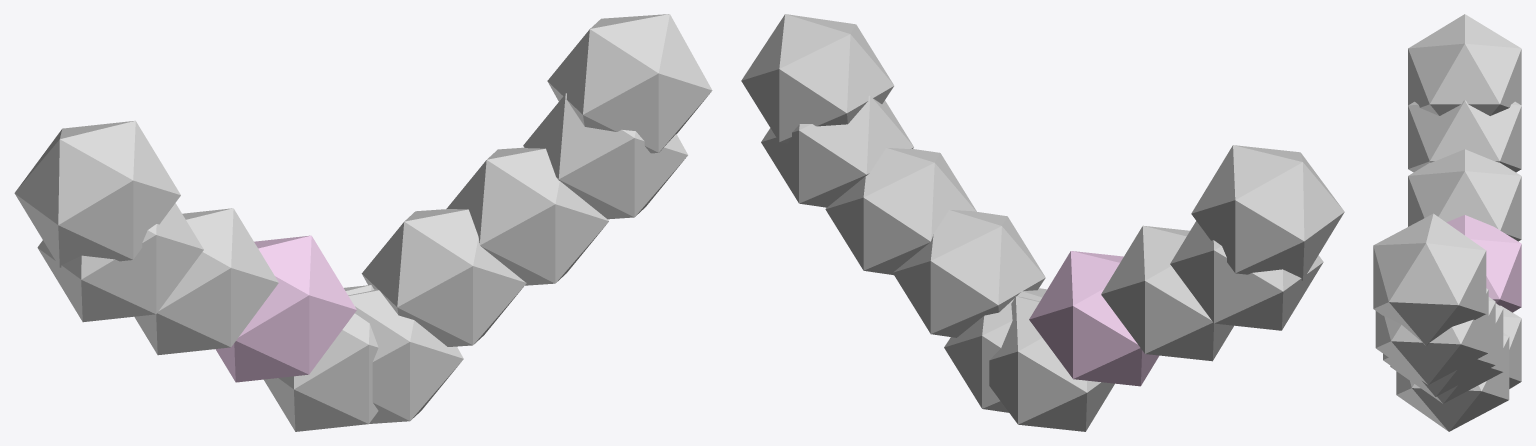
The model's file is coral reef.dae.
3 renders of one model, left to right at view 1: azimuth 30°, elevation 25°; view 2: azimuth 150°, elevation 25°; view 3: azimuth 270°, elevation 25°, orthographic. The views are drawn at different scales.
Visible parts, largest first — view 1: Platonic, Platonic.9, Platonic.6, Platonic.7, Platonic.3, Platonic.2, Platonic.8, Platonic.1, Platonic.5, Platonic.4; view 2: Platonic, Platonic.9, Platonic.6, Platonic.7, Platonic.3, Platonic.2, Platonic.4, Platonic.8, Platonic.1, Platonic.5; view 3: Platonic.9, Platonic, Platonic.2, Platonic.1, Platonic.8, Platonic.5, Platonic.3, Platonic.7, Platonic.6, Platonic.4.
Part boxes in pixels (<box>): Platonic: <box>14,120,180,267</box>; Platonic.9: <box>547,14,712,153</box>; Platonic.6: <box>361,209,526,346</box>; Platonic.7: <box>446,147,608,285</box>; Platonic.3: <box>215,235,356,382</box>; Platonic.2: <box>134,208,278,355</box>; Platonic.8: <box>523,93,687,219</box>; Platonic.1: <box>37,203,203,322</box>; Platonic.5: <box>348,289,463,423</box>; Platonic.4: <box>264,285,378,431</box>; Platonic: <box>1191,145,1344,280</box>; Platonic.9: <box>741,14,894,143</box>; Platonic.6: <box>893,210,1045,337</box>; Platonic.7: <box>825,147,976,275</box>; Platonic.3: <box>1029,251,1158,386</box>; Platonic.2: <box>1101,225,1233,361</box>; Platonic.4: <box>989,296,1114,431</box>; Platonic.8: <box>761,95,913,207</box>; Platonic.1: <box>1170,221,1323,330</box>; Platonic.5: <box>944,288,1046,412</box>; Platonic.9: <box>1373,213,1486,345</box>; Platonic: <box>1408,14,1521,115</box>; Platonic.2: <box>1408,149,1521,241</box>; Platonic.1: <box>1408,100,1521,172</box>; Platonic.8: <box>1375,288,1488,384</box>; Platonic.5: <box>1396,332,1509,431</box>; Platonic.3: <box>1446,215,1521,312</box>; Platonic.7: <box>1383,297,1495,396</box>; Platonic.6: <box>1390,303,1503,403</box>; Platonic.4: <box>1500,305,1521,388</box>.
Size of the model in its own units: 326 by 171 by 82.11.
